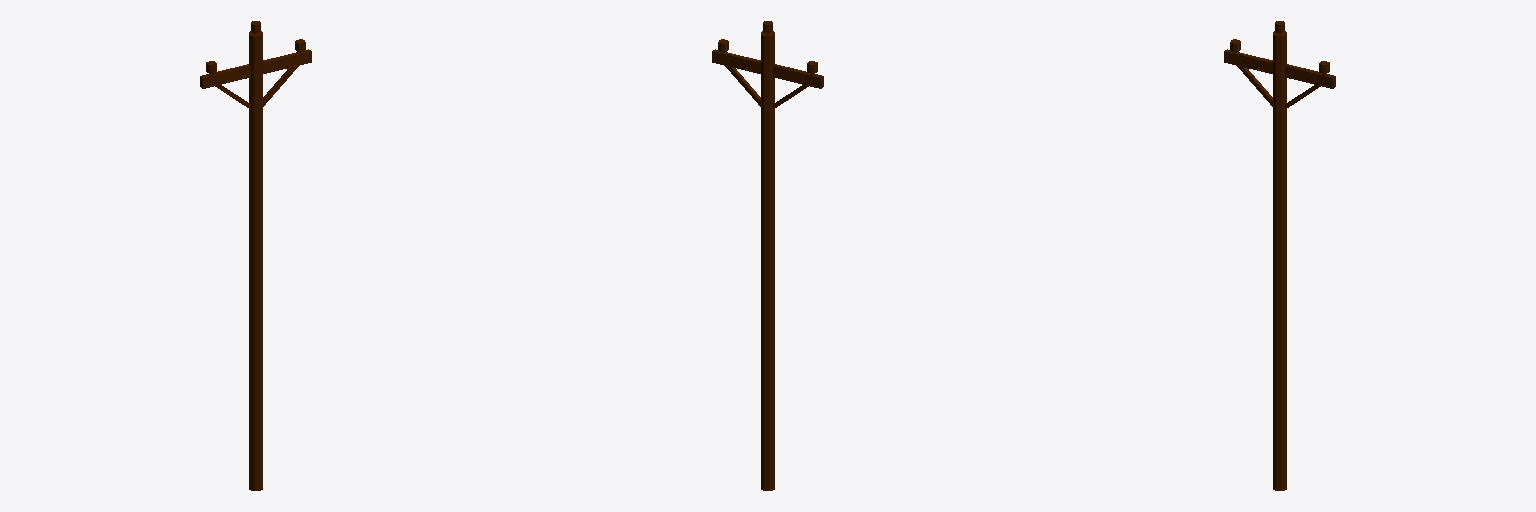
URDF robot description (pylon):
<?xml version="1.0" ?>

<robot name="pylon" xmlns:xacro="http://ros.org/wiki/xacro">
  <gazebo>
    <static>true</static>
  </gazebo>
  <link name="pylon">
    <!--MAIN_BODY-->
    <visual>
      <origin rpy="0 0 0" xyz="0 0 0"/>
      <geometry>
        <mesh filename="package://iai_outdoor_models/models/pylon/pylon.stl"/>
      </geometry>
      <material name="IAI_RESCUE/pylon">
       <color rgba="0.31 0.15 0.033 1.0"/>
     </material>
    </visual>
    <collision>
      <origin rpy="0 0 0" xyz="0 0 0"/>
      <geometry>
        <mesh filename="package://iai_outdoor_models/models/pylon/pylon.stl"/>
      </geometry>
    </collision>
    <inertial>
      <mass value=".1"/>
      <origin xyz="0 0 0"/>
      <inertia ixx="0.001" ixy="0.0" ixz="0.0" iyy="0.001" iyz="0.0" izz="0.001"/>
    </inertial>
  </link>
</robot>
 

--- Facts derived from the render (not from the file) ---
Views: 3 orthographic renders of the robot side by side, from view 1: azimuth 30°, elevation 25°; view 2: azimuth 150°, elevation 25°; view 3: azimuth 330°, elevation 25°.
Model pylon with 1 links and 0 joints (none), rooted at pylon, posed all joints at 0.
Visible links, largest first — view 1: pylon; view 2: pylon; view 3: pylon.
Boxes of the visible links, <box> form: pylon: <box>200,21,311,490</box>; pylon: <box>712,21,823,490</box>; pylon: <box>1224,21,1335,490</box>.
Size in the robot's own frame: 2 by 0.25 by 8.19 metres.
Meshes: 1 distinct files referenced, 1 mesh visuals loaded (1 binary STL).
